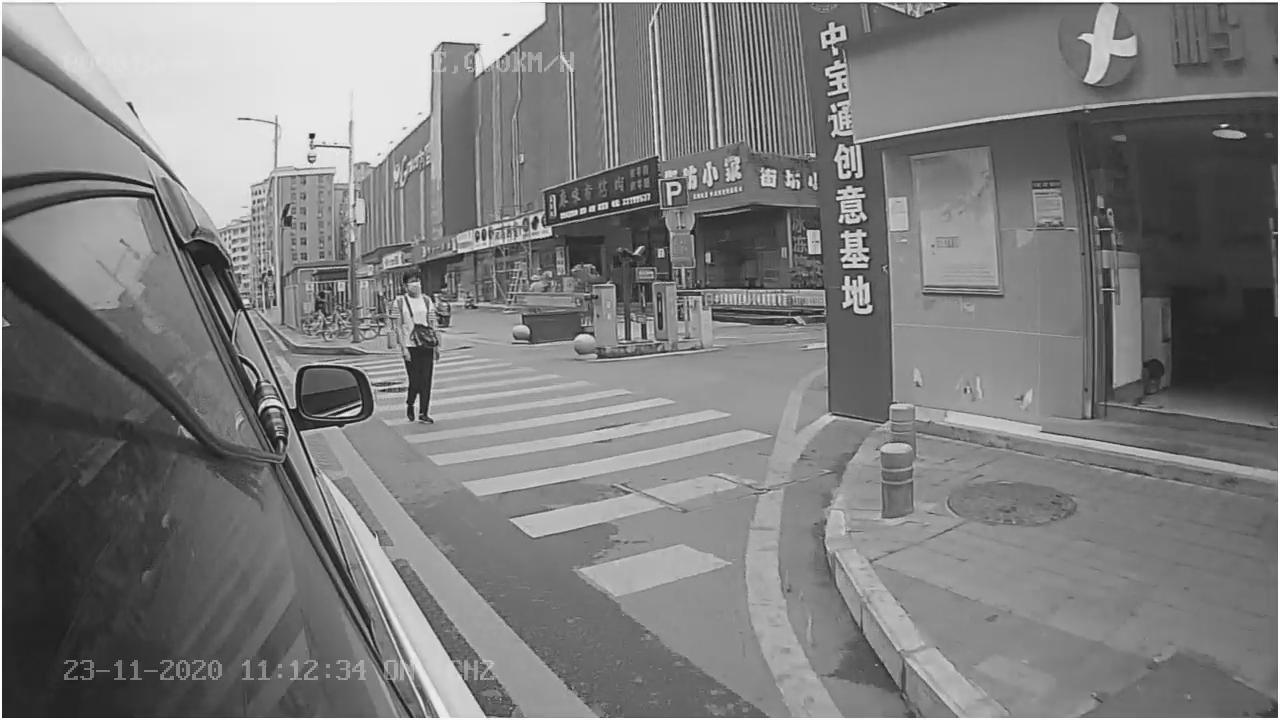person: (383, 270, 448, 423)
